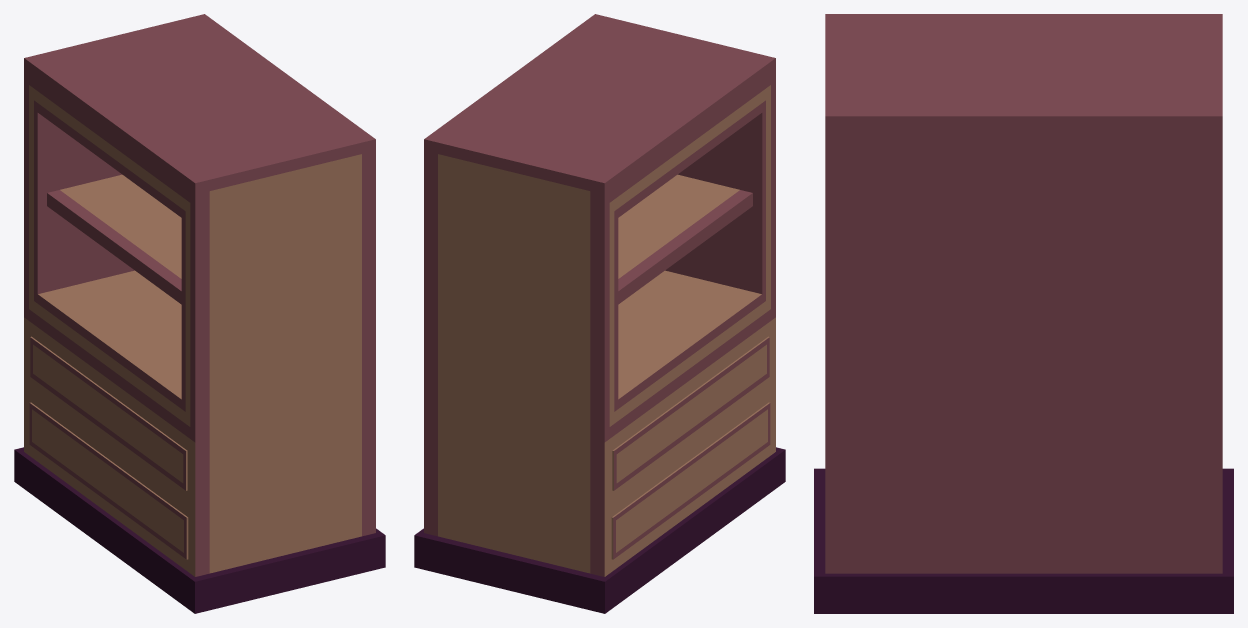
Rendered from Prop_Bookshelf_Beige.fbx.
The picture shows the model from 3 angles, left to right: view 1: azimuth 30°, elevation 25°; view 2: azimuth 150°, elevation 25°; view 3: azimuth 270°, elevation 25°; orthographic projection. The views are drawn at different scales.
Parts seen in each view (by area): view 1: Cube.205; view 2: Cube.205; view 3: Cube.205.
Part boxes in pixels (x1,y1,x2,y2): Cube.205: (14,14,385,613); Cube.205: (414,14,785,613); Cube.205: (814,14,1233,613).
Size of the model in its own units: 58.57 by 125 by 96.1.
